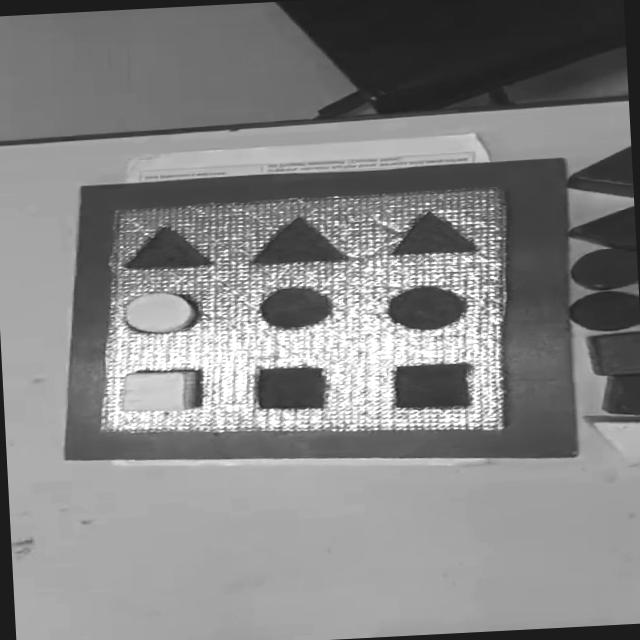bcircle: (567, 289, 640, 334)
bcube: (599, 373, 640, 416)
btriangle: (564, 204, 636, 253)
mtcircle: (384, 284, 468, 332), (258, 285, 334, 330)
mtcube: (392, 361, 474, 412), (254, 364, 327, 412)
mttriangle: (250, 213, 352, 267), (384, 206, 480, 258), (125, 228, 212, 270)
rcircle: (566, 245, 638, 292)
rcube: (584, 329, 640, 378)
rtriangle: (566, 143, 634, 202)
wb: (88, 185, 516, 449)
ycircle: (122, 290, 200, 336)
ycube: (117, 367, 205, 415)
ytriangle: (584, 413, 640, 468)
